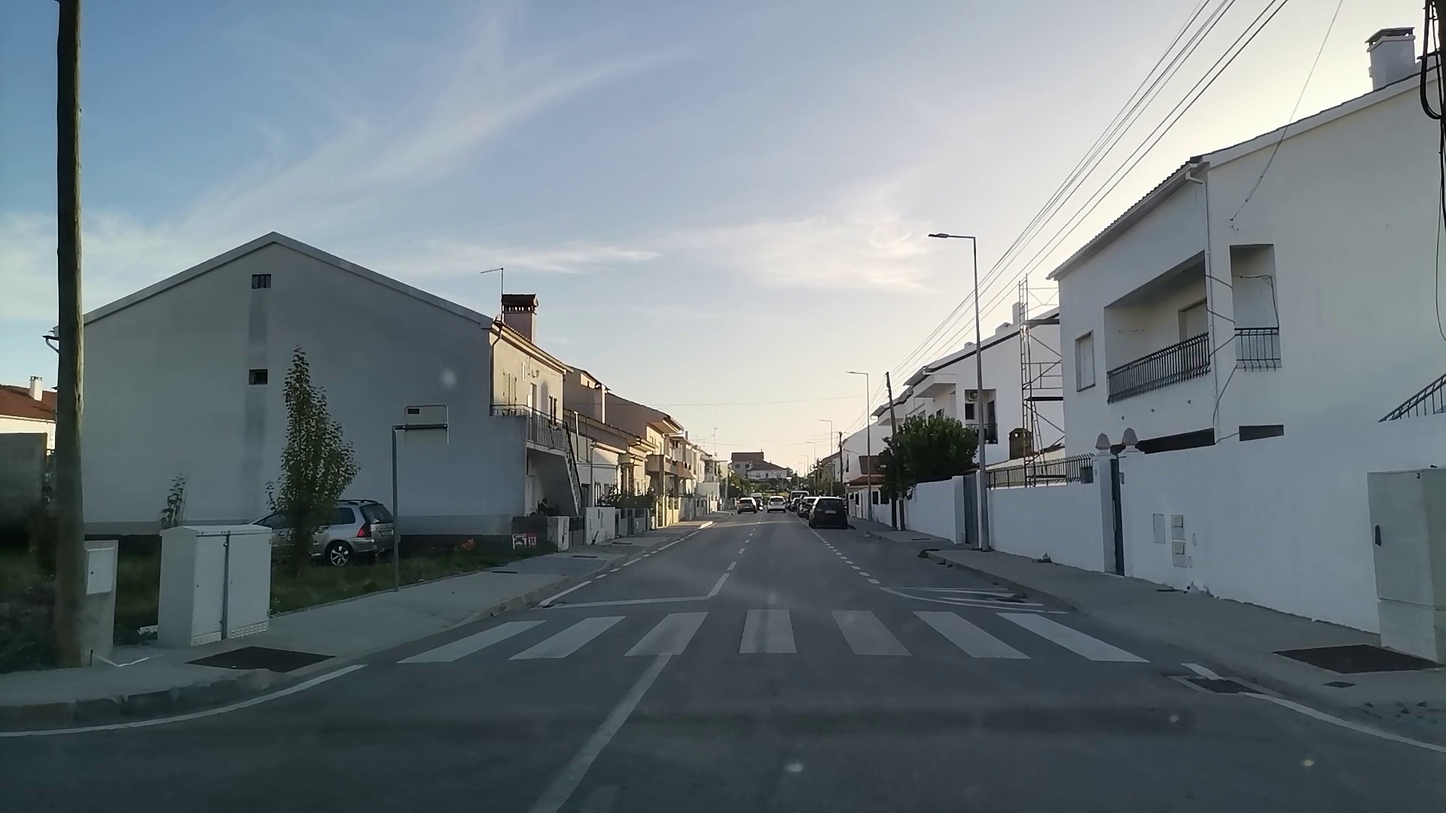Stairs: (426, 605, 1163, 683)
